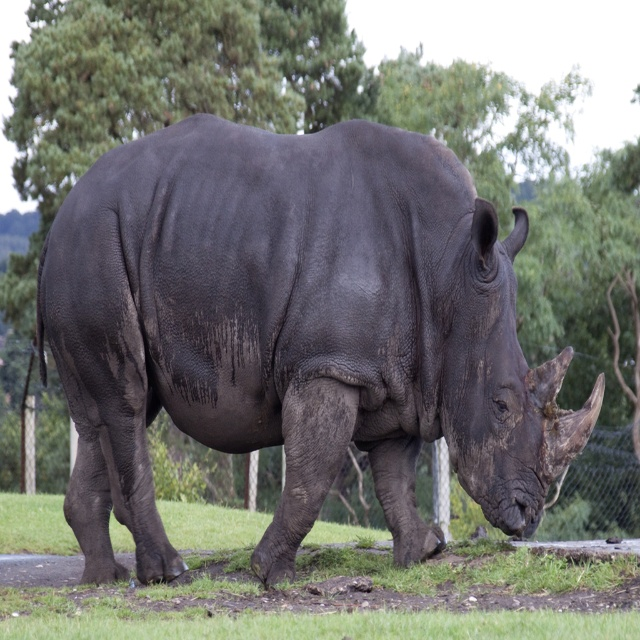Rhinoceros: (31, 115, 605, 587)
